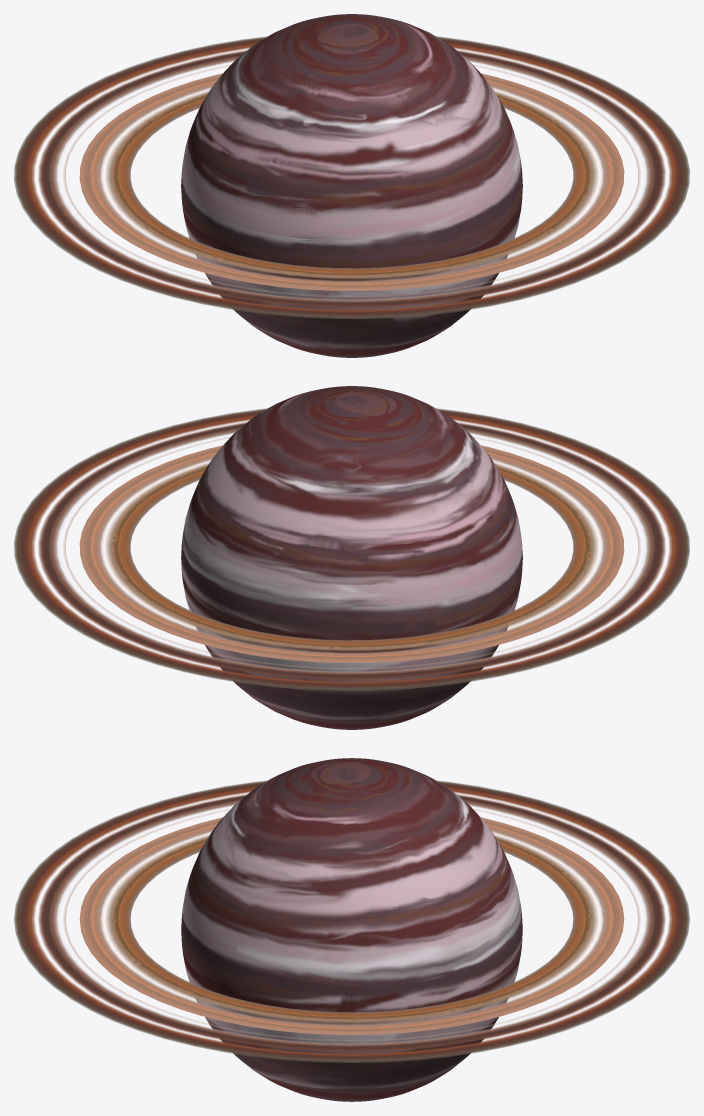
The model's file is saturno.glb.
3 renders of one model, top to bottom at view 1: azimuth 30°, elevation 25°; view 2: azimuth 150°, elevation 25°; view 3: azimuth 270°, elevation 25°, orthographic.
Visible parts, largest first — view 1: New, Tube002; view 2: New, Tube002; view 3: New, Tube002.
Part boxes in pixels (bbox=[...]): New: bbox=[181, 14, 522, 357]; Tube002: bbox=[14, 36, 689, 318]; New: bbox=[181, 386, 522, 729]; Tube002: bbox=[14, 408, 689, 690]; New: bbox=[181, 758, 522, 1101]; Tube002: bbox=[14, 780, 689, 1062].
Size of the model in its own units: 2.38 by 1.21 by 2.38.
2 materials, 2 textured.
